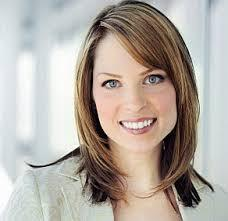No Mask: (73, 1, 211, 159)
